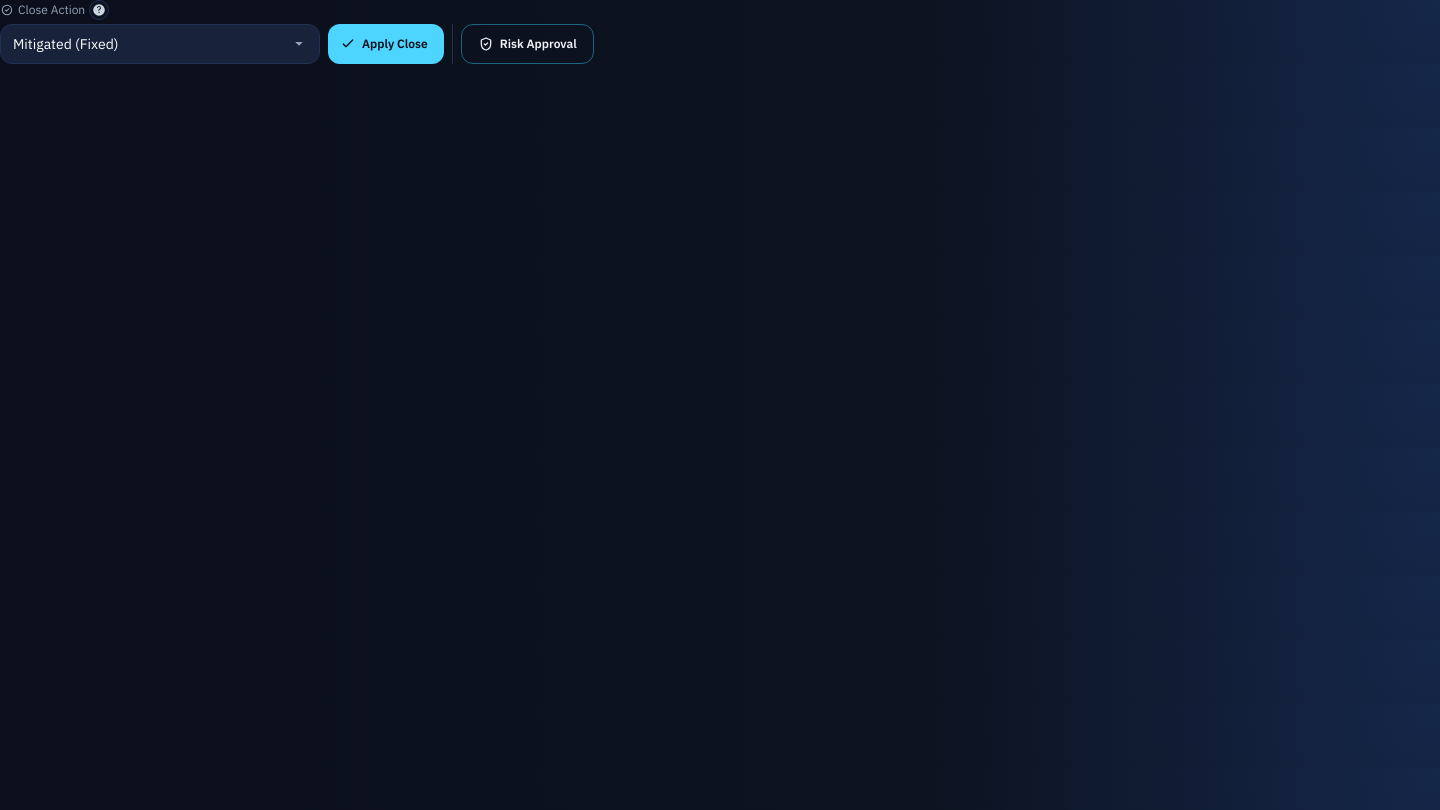
Scenario: FindingStatusActions › modal header shows finding title and severity
Click the button "Risk Approval": (527, 44) [461,24,594,64]
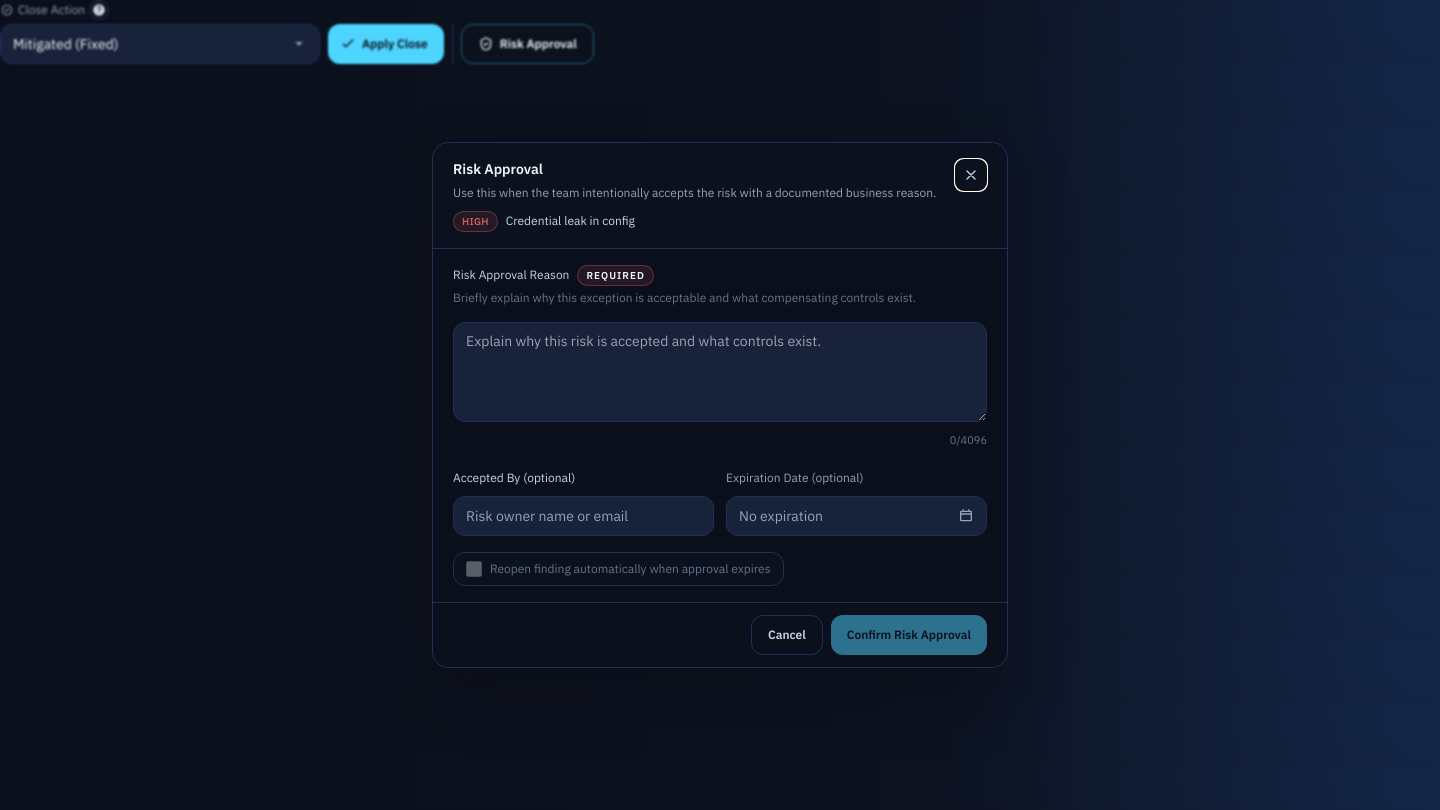
Now the text titled "Credential leak in config" is shown, box [506,213,635,229]
Now the text "High" is shown, box [453,211,498,232]
